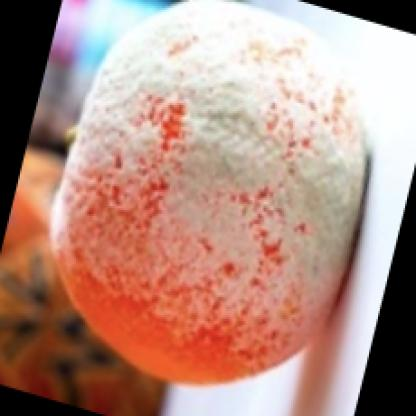rotten: (47, 1, 378, 388)
